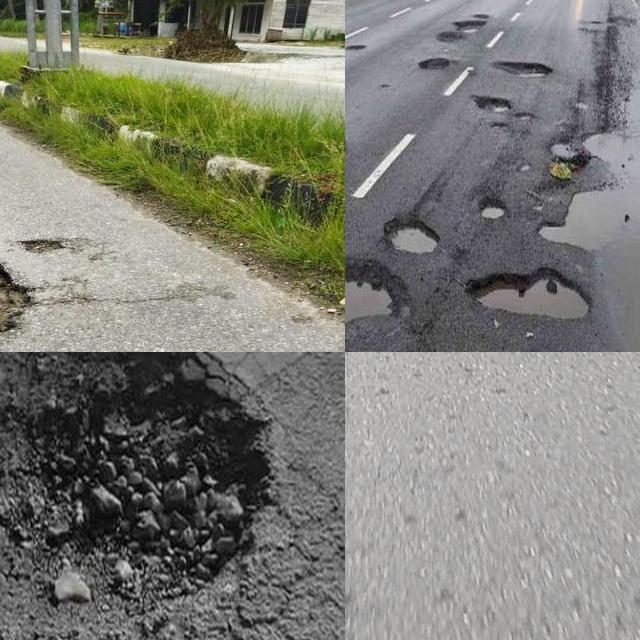Lubang: (0, 352, 270, 638), (463, 273, 587, 320), (345, 265, 405, 317), (0, 262, 33, 342), (381, 221, 442, 257), (498, 61, 555, 84), (472, 192, 508, 217)
